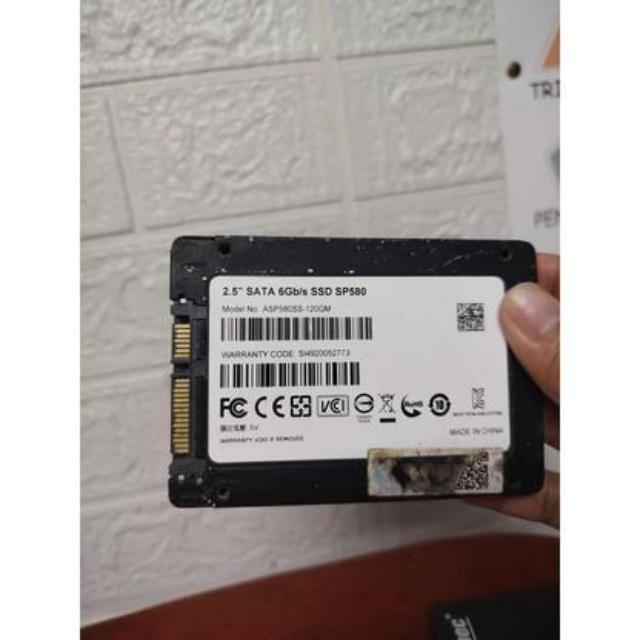DISK: (162, 240, 540, 512)
